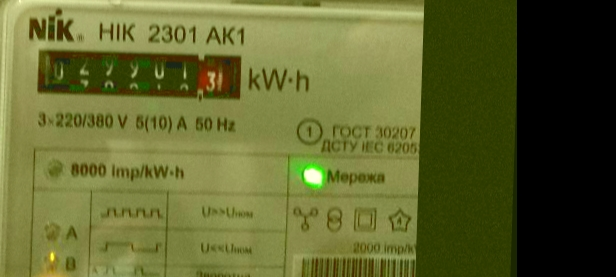0: (149, 56, 165, 81), (48, 58, 64, 81)
1: (176, 56, 189, 81)
2: (75, 54, 90, 77)
3: (201, 69, 217, 93)
9: (125, 57, 138, 80), (101, 55, 113, 76)
screen: (27, 41, 250, 110)
